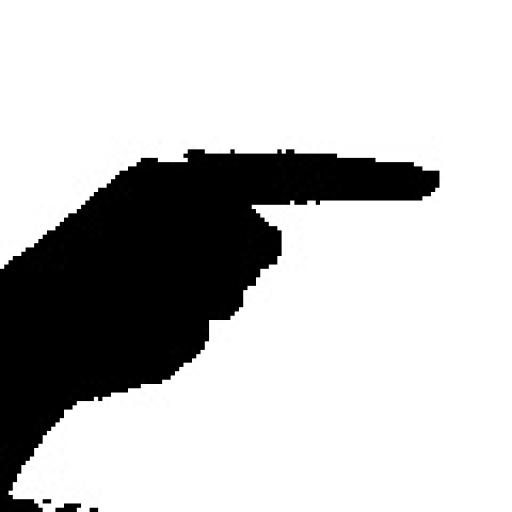index_right: (0, 146, 440, 363)
